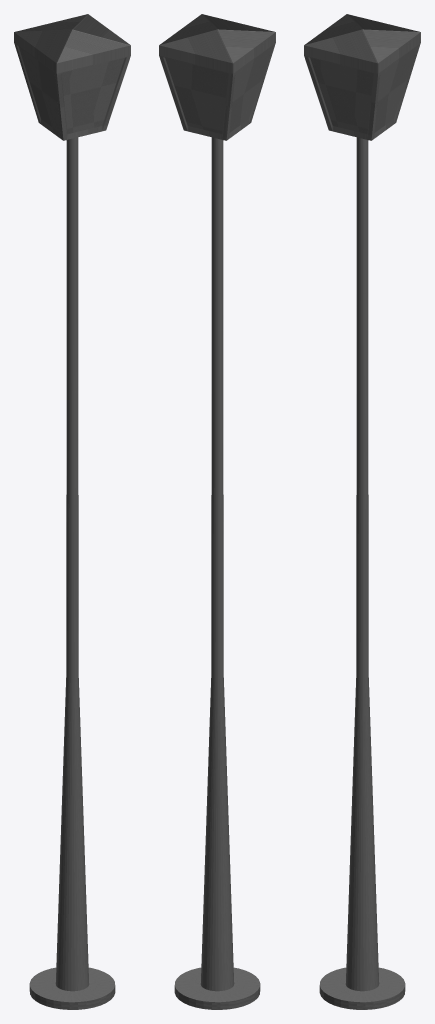
Rendered from lamp.glb.
3 renders of one model, left to right at view 1: azimuth 30°, elevation 25°; view 2: azimuth 150°, elevation 25°; view 3: azimuth 330°, elevation 25°, orthographic.
Parts seen in each view (by area): view 1: streetLamp; view 2: streetLamp; view 3: streetLamp.
Part boxes in pixels (x1,y1,x2,y2): streetLamp: [14, 14, 130, 1009]; streetLamp: [159, 14, 275, 1009]; streetLamp: [304, 14, 420, 1009].
Bounding box in the file's own units: 0.3225 × 4 × 0.3225.
Materials: 1 (1 with a texture image).
